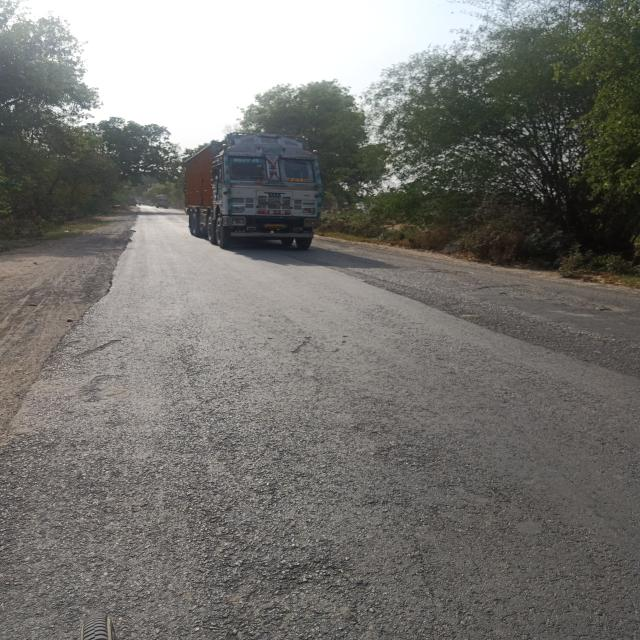Truck: (178, 119, 323, 248)
